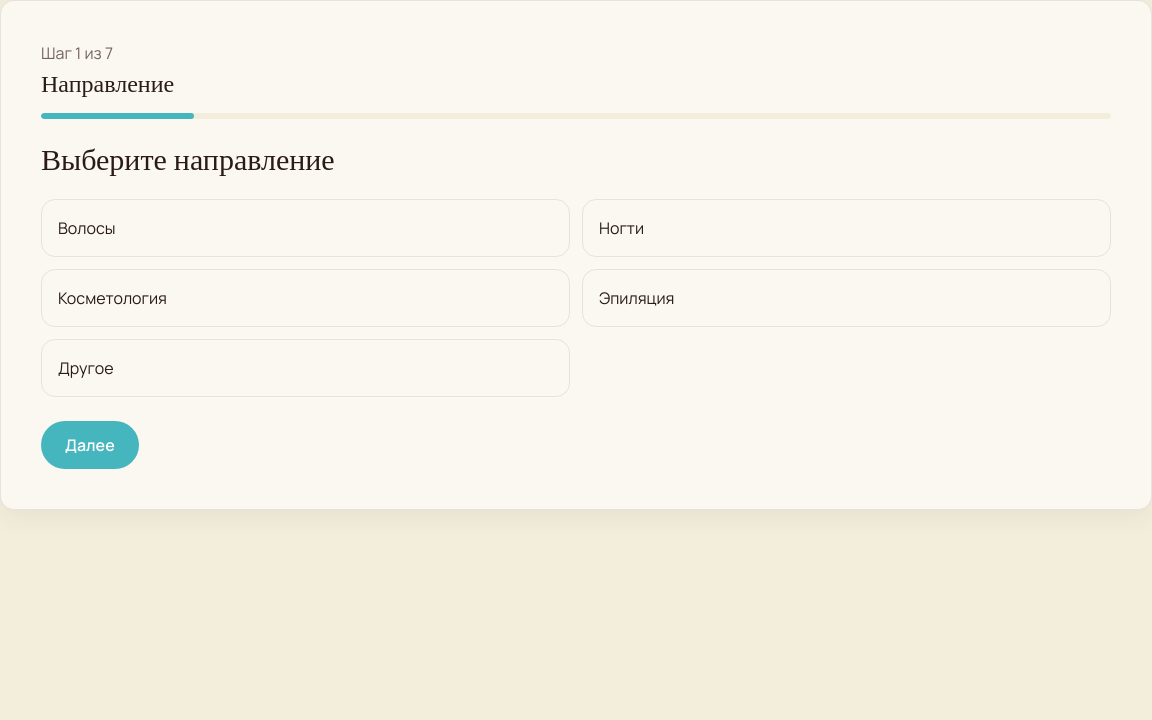
Scenario: BookingFlow › lists specialists for the selected direction only
Expected: the text "Выберите направление" is shown, [41,143,335,179]
Click the button "Ногти".
click(622, 228)  # box [582,199,1111,257]
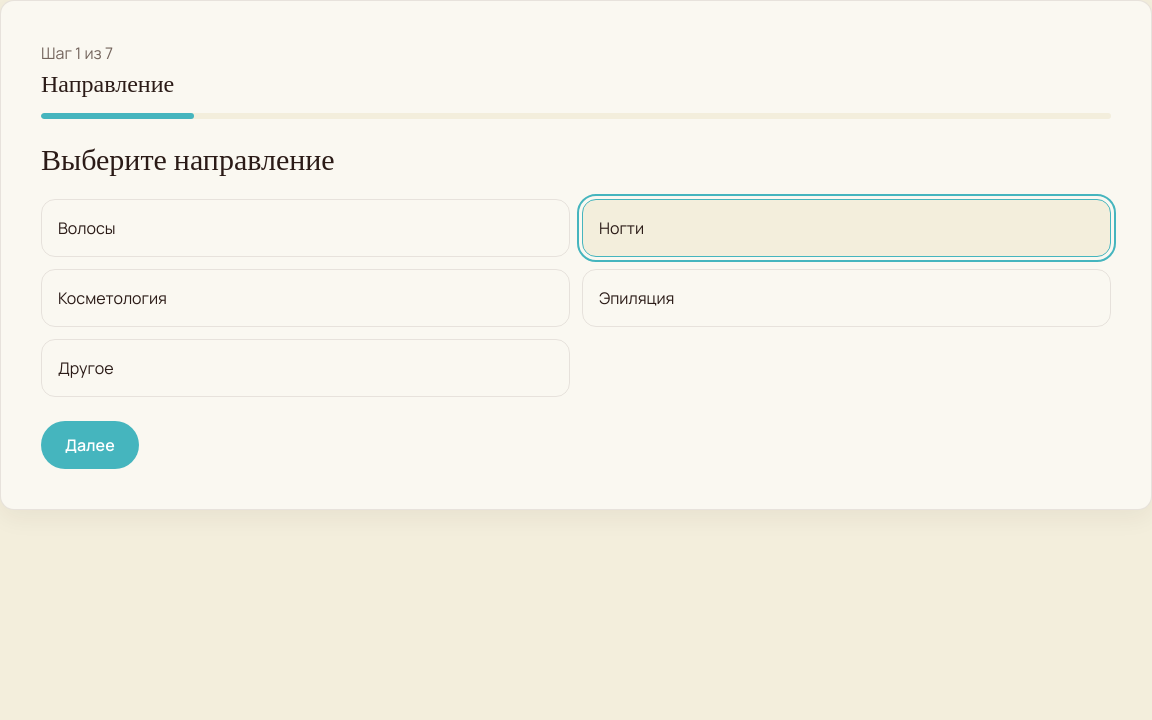
Click the button "Далее".
click(90, 445)  # box [41,421,139,469]
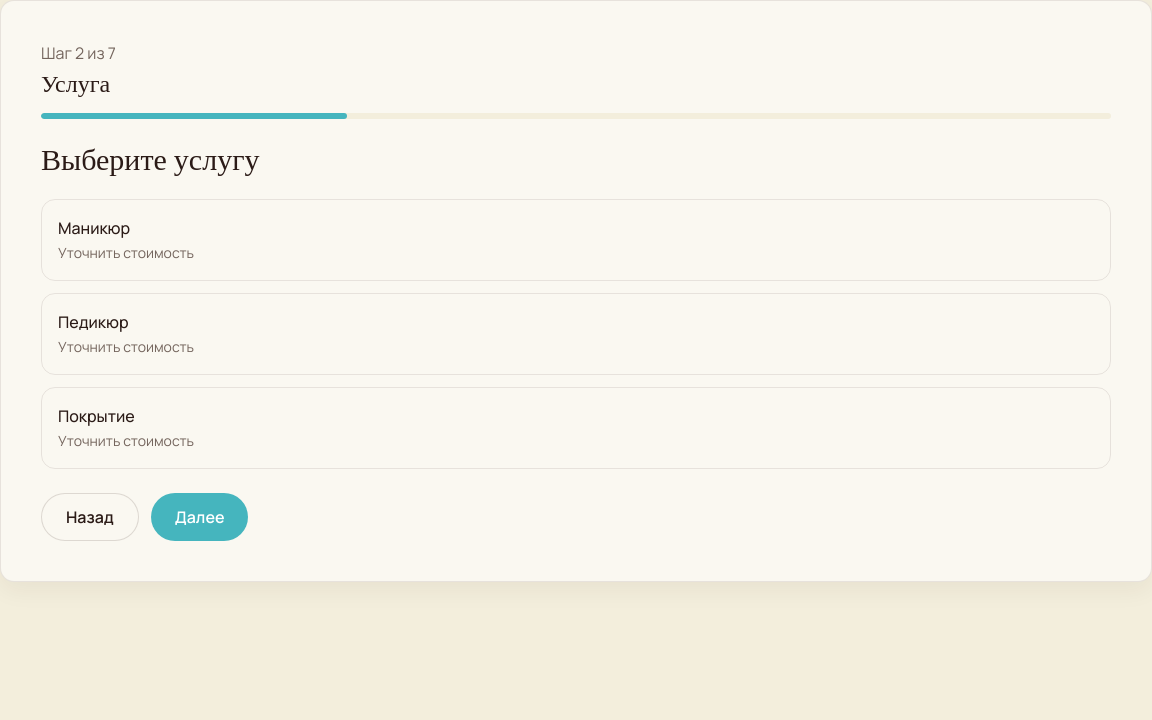
Click the button "Маникюр Уточнить стоимость".
click(94, 228)  # box [41,199,1111,281]
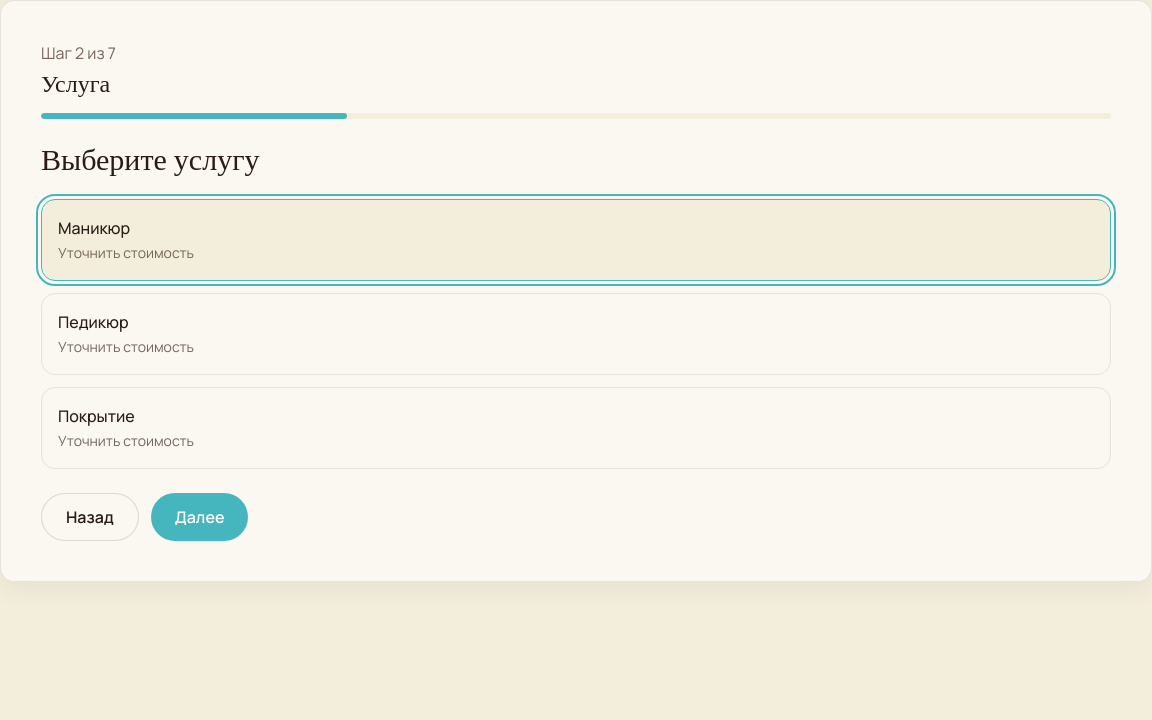
Click the button "Далее".
click(200, 517)  # box [151,493,248,541]
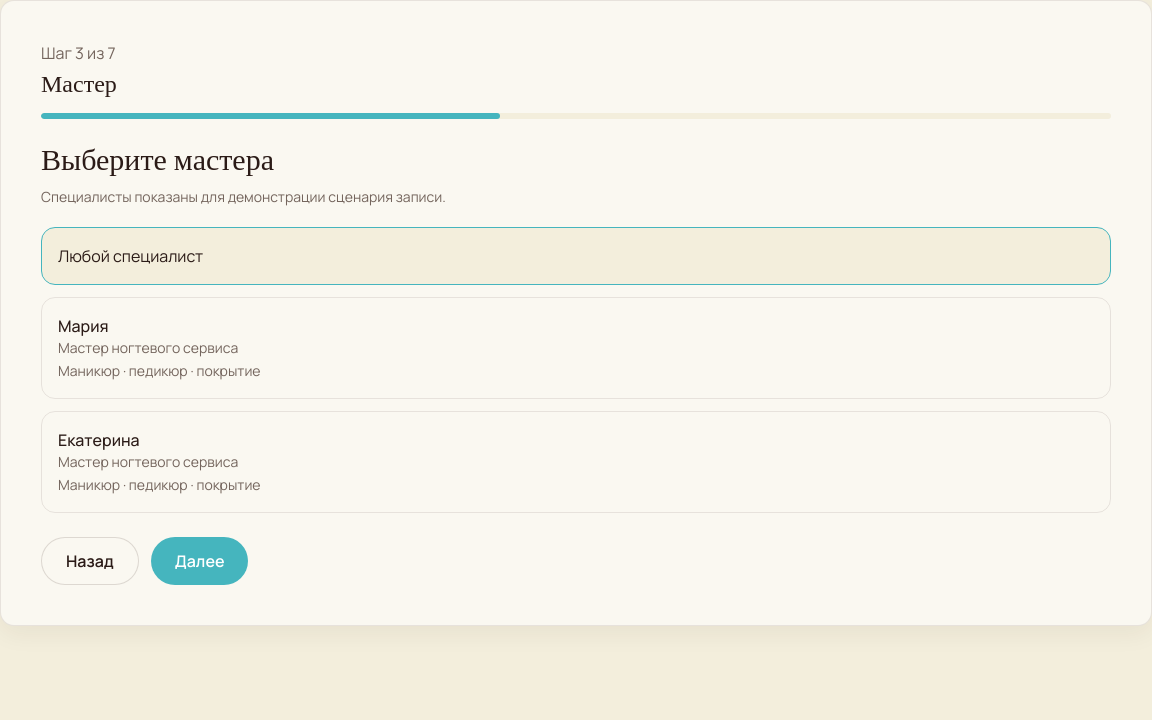
Now the text "Выберите мастера" is shown, box [41,143,274,179]
Now the button "Любой специалист" is shown, box [41,227,1111,285]
Now the button "Мария Мастер ногтевого сервиса Маникюр · педикюр · покрытие" is shown, box [41,297,1111,399]
